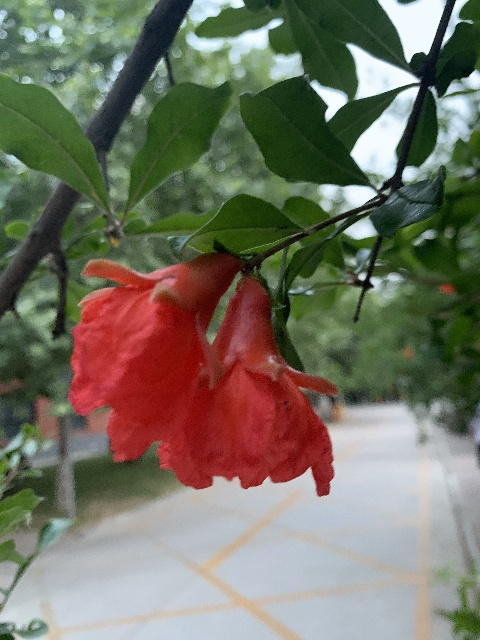flower: (158, 276, 338, 496), (68, 253, 239, 463)
